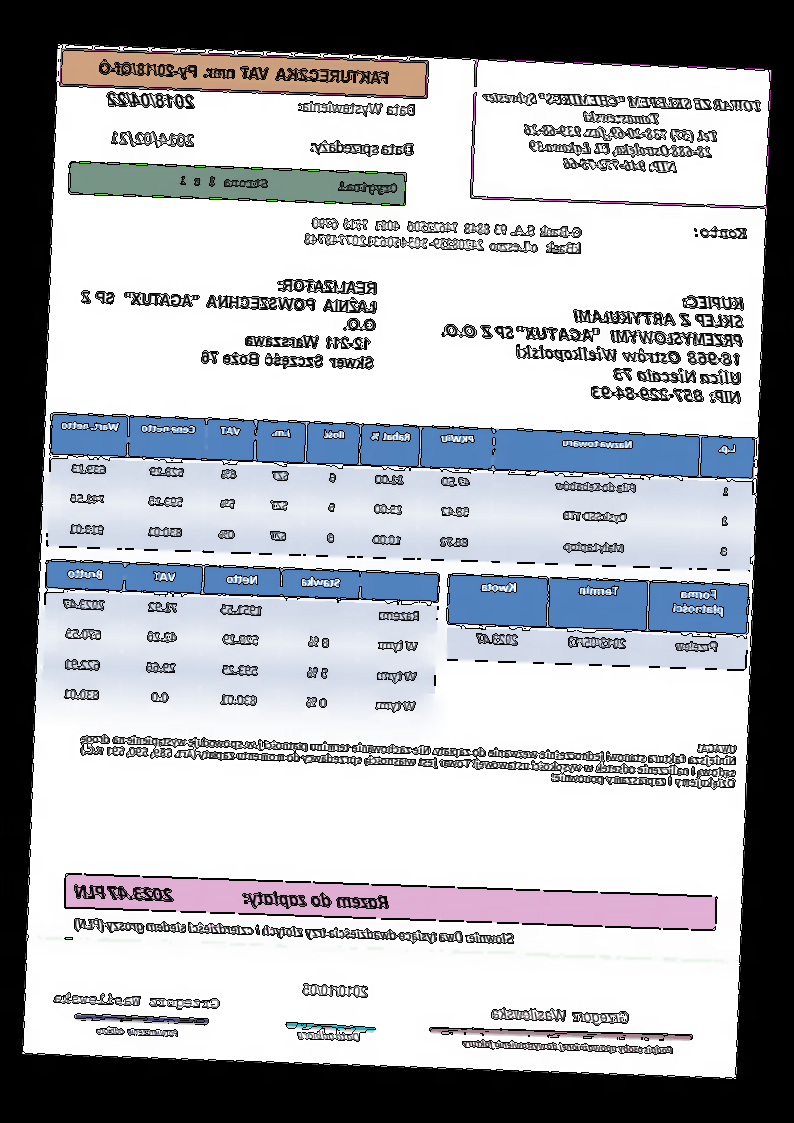Table: (45, 412, 757, 572), (40, 558, 441, 724), (446, 574, 750, 671)
TextBox: (77, 717, 739, 793), (435, 283, 749, 407), (76, 268, 380, 374), (479, 86, 764, 180), (68, 913, 517, 950), (303, 213, 587, 260), (71, 877, 395, 916), (98, 57, 394, 86), (178, 171, 400, 197), (459, 1033, 677, 1058), (52, 988, 224, 1012), (489, 1000, 633, 1028), (296, 96, 418, 120), (308, 136, 416, 160), (105, 87, 200, 114), (107, 127, 198, 152), (93, 1021, 182, 1042), (301, 979, 372, 1001), (693, 222, 751, 242), (295, 1026, 363, 1043)
